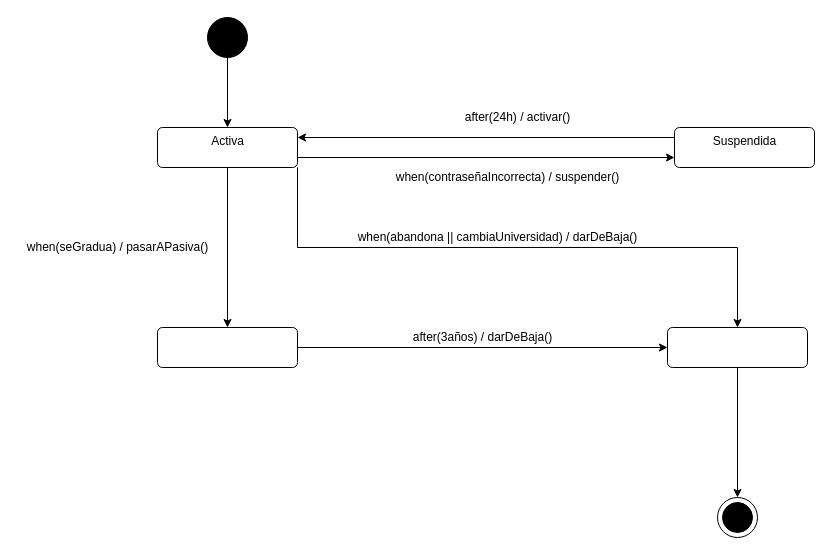
This 832x555 diagram has some shape labels left out. The shapes that lost their labels are listed below. From the top down, each one's centre as x and y in pixels, then its label:
At (x=227, y=347): "Pasiva".
At (x=737, y=347): "Baja".
